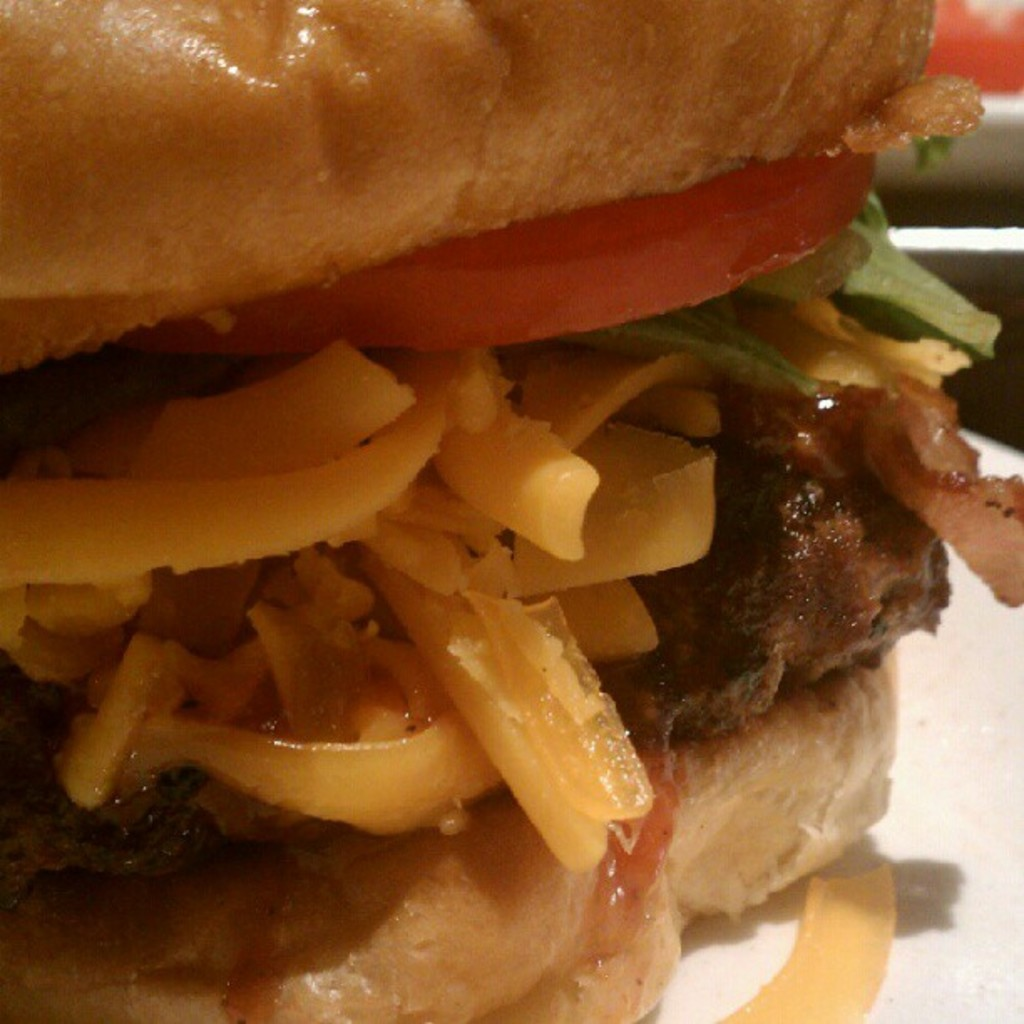Hamburger: (0, 3, 1022, 1022)
